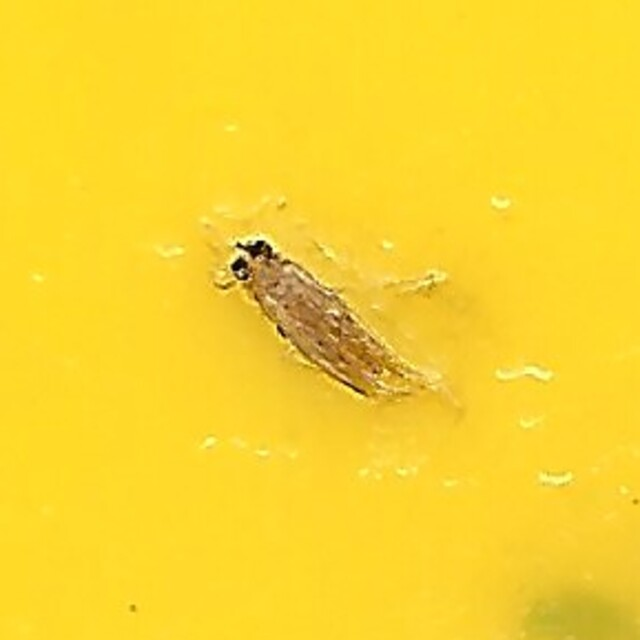Trichoptera: (221, 234, 419, 406)
